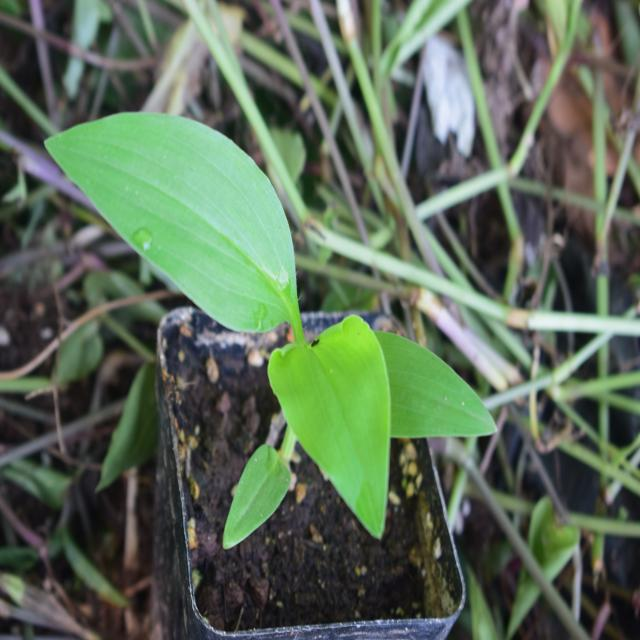Common Dayflower: (61, 97, 492, 515)
